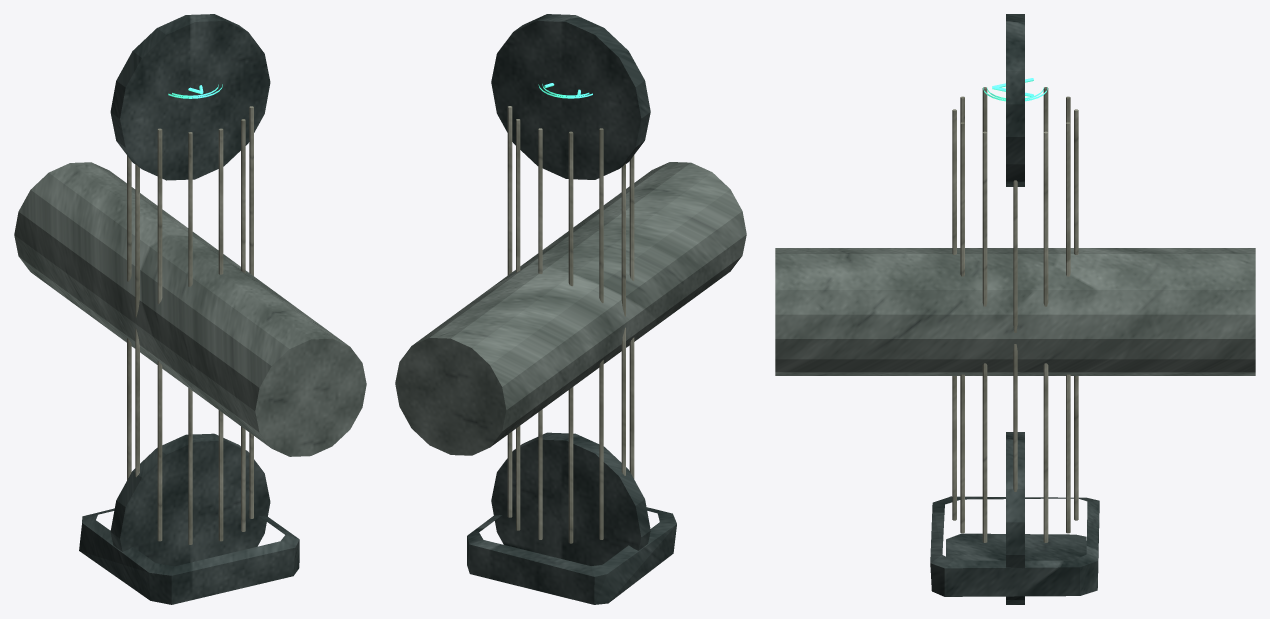
The model's file is 0294_fluted_column_19.glb.
The picture shows the model from 3 angles, left to right: view 1: azimuth 30°, elevation 25°; view 2: azimuth 150°, elevation 25°; view 3: azimuth 270°, elevation 25°; orthographic projection.
Visible parts, largest first — view 1: stone, stone_dark, stone_light; view 2: stone, stone_dark, stone_light; view 3: stone, stone_dark, stone_light.
Boxes of the visible parts, x1,y1,x2,y2 form: stone: [14, 162, 366, 456]; stone_dark: [79, 14, 299, 604]; stone_light: [127, 106, 253, 544]; stone: [395, 162, 746, 455]; stone_dark: [467, 14, 676, 604]; stone_light: [507, 106, 634, 543]; stone: [775, 248, 1255, 375]; stone_dark: [930, 14, 1099, 604]; stone_light: [952, 87, 1078, 542].
Bounding box in the file's own units: 1.28 × 4.7 × 3.56.
Materials: 4 (4 with a texture image).
